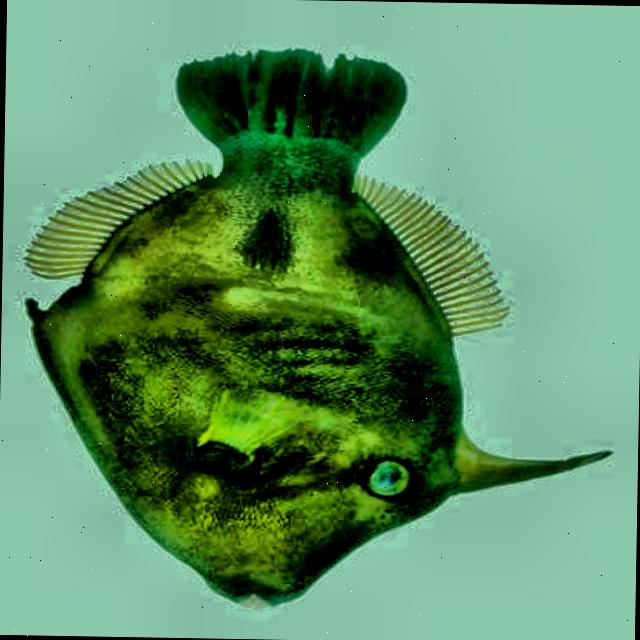fish: (9, 31, 622, 615)
